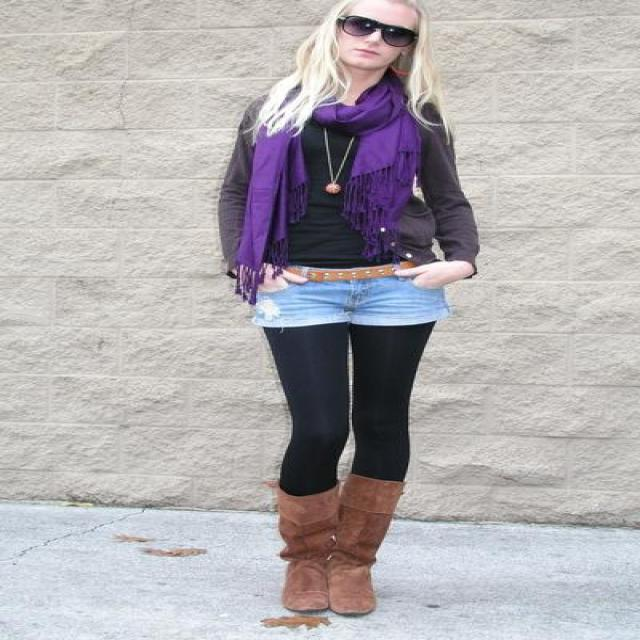shirt: (217, 100, 478, 304)
shoe: (262, 473, 403, 618)
shorts: (251, 273, 450, 326)
sunglass: (336, 15, 418, 50)
